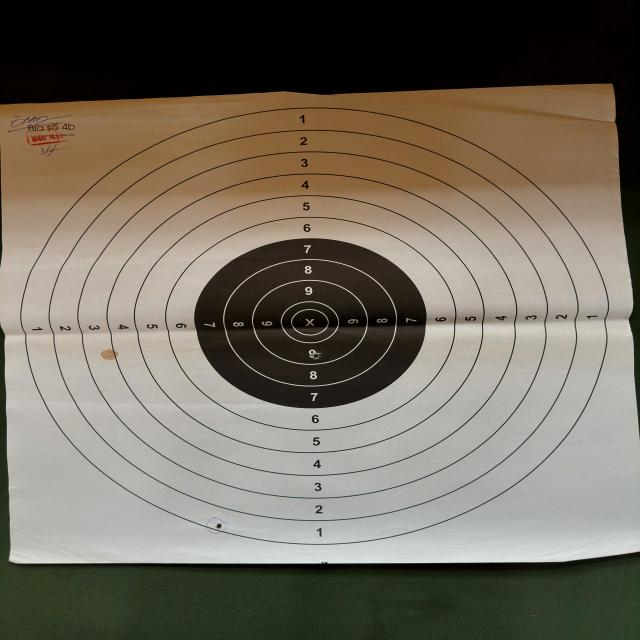bullet: (312, 352, 323, 359), (216, 524, 224, 528)
target: (4, 84, 628, 564)
